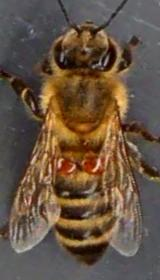varroa_mite: (47, 146, 83, 180), (79, 151, 113, 178)
